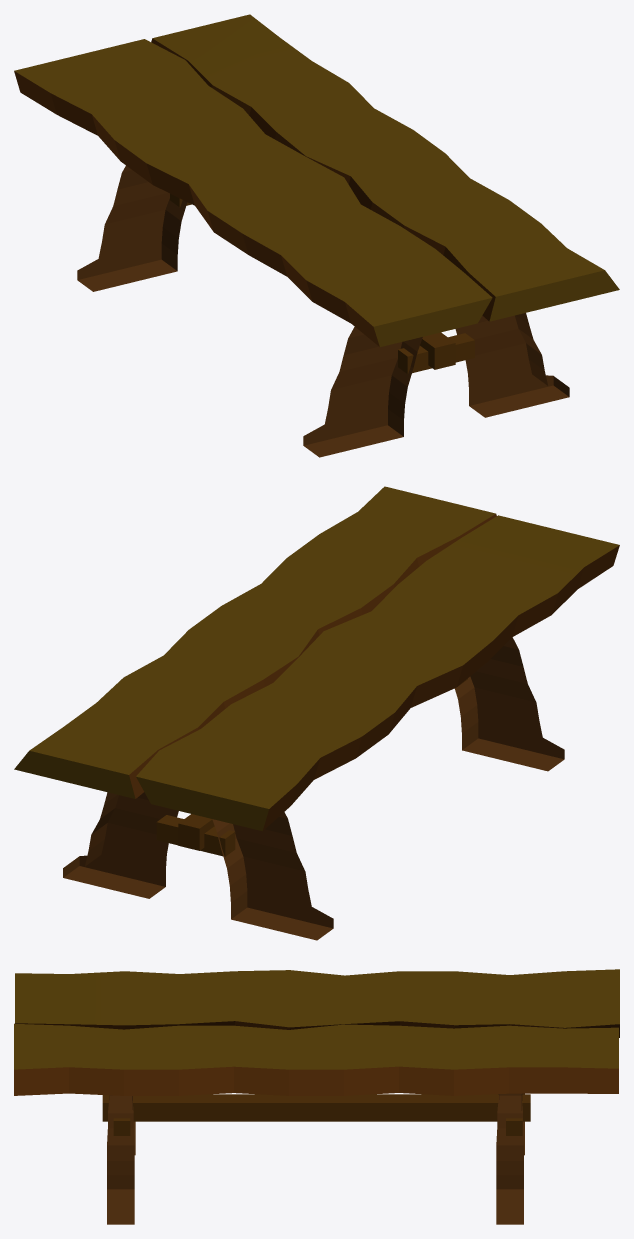
File: tafel.fbx
3 views of the same model, one above another, from view 1: azimuth 30°, elevation 25°; view 2: azimuth 150°, elevation 25°; view 3: azimuth 270°, elevation 25° (orthographic). The views are drawn at different scales.
Parts seen in each view (by area): view 1: Cube.006_Cube.007; view 2: Cube.006_Cube.007; view 3: Cube.006_Cube.007.
Part boxes in pixels (x1,y1,x2,y2): Cube.006_Cube.007: [14, 14, 619, 457]; Cube.006_Cube.007: [14, 486, 619, 940]; Cube.006_Cube.007: [14, 969, 619, 1224].
Bounding box in the file's own units: 3.69 × 2.34 × 8.75.
